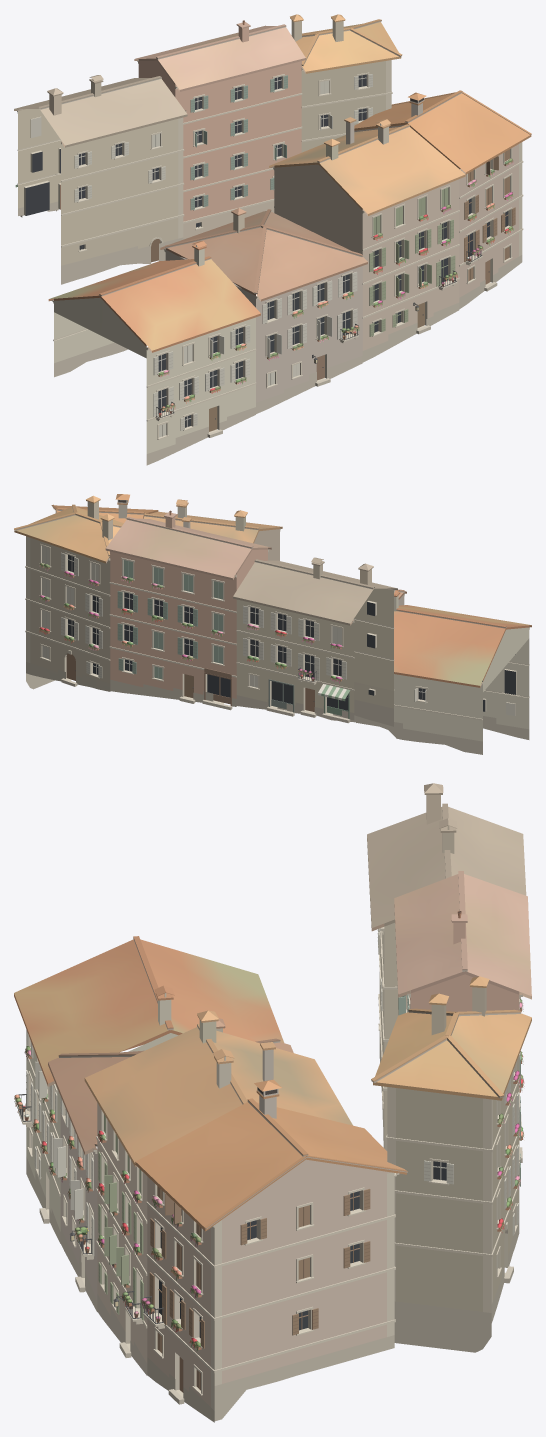
The model's file is SM_BM_BT_blk_06.glb.
The picture shows the model from 3 angles, top to bottom: view 1: azimuth 30°, elevation 25°; view 2: azimuth 150°, elevation 25°; view 3: azimuth 270°, elevation 25°; orthographic projection. The views are drawn at different scales.
Visible parts, largest first — view 1: SM_BM_BT_blk_06; view 2: SM_BM_BT_blk_06; view 3: SM_BM_BT_blk_06.
Boxes of the visible parts, x1,y1,x2,y2 form: SM_BM_BT_blk_06: (14,14,531,465); SM_BM_BT_blk_06: (14,494,531,754); SM_BM_BT_blk_06: (14,783,531,1422).
Size of the model in its own units: 46.23 by 26.96 by 28.67.
